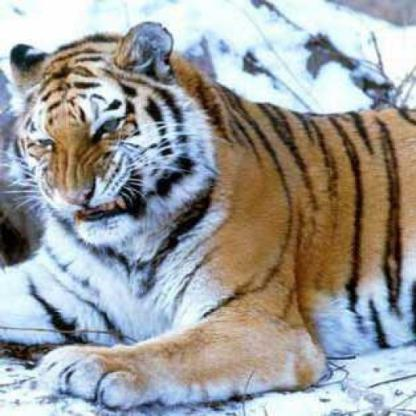Tiger: (9, 25, 415, 415)
